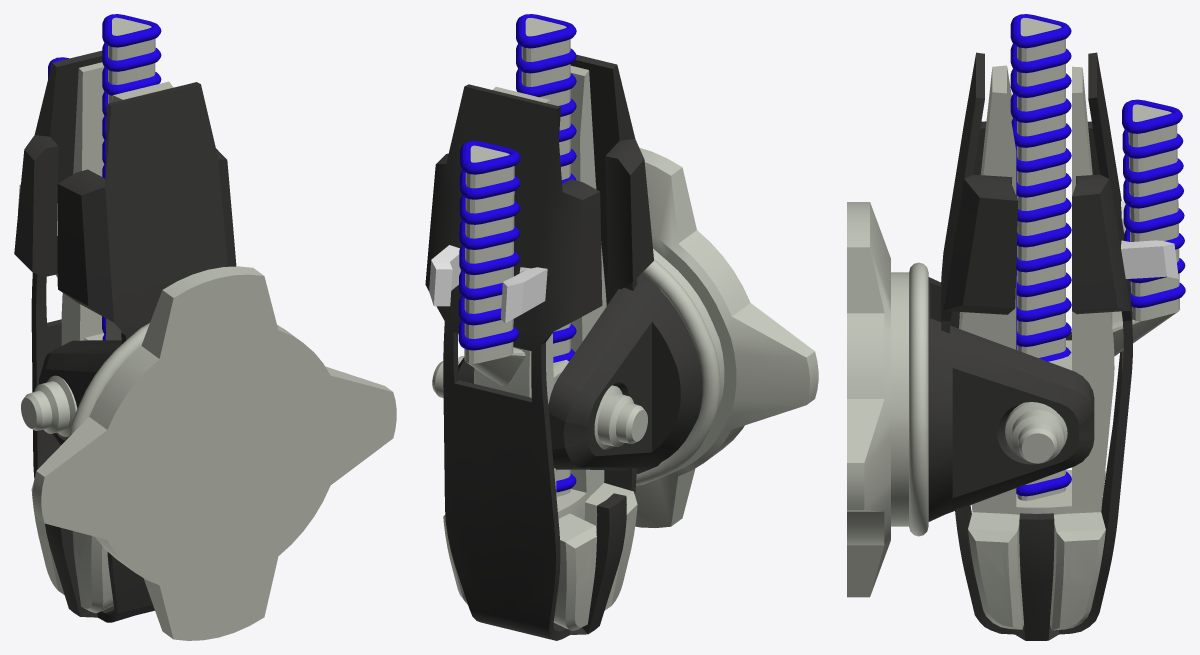
File: PlasmaCanon4.fbx
3 views of the same model, side by side, from view 1: azimuth 30°, elevation 25°; view 2: azimuth 150°, elevation 25°; view 3: azimuth 270°, elevation 25° (orthographic). The views are drawn at different scales.
Parts seen in each view (by area): view 1: Cylinder.002, Cylinder.009, Cylinder.007, Cylinder.006_Curve, Cylinder.004, Cylinder.005, Cylinder.006, Cylinder.004_Curve; view 2: Cylinder.009, Cylinder.002, Cylinder.004, Cylinder.007, Cylinder.010, Cylinder.006_Curve.001, Cylinder.004_Curve, Cylinder.006_Curve, Cylinder.011, Cylinder.006, Cylinder.005; view 3: Cylinder.009, Cylinder.007, Cylinder.004, Cylinder.002, Cylinder.006_Curve, Cylinder.006, Cylinder.010, Cylinder.006_Curve.001, Cylinder.004_Curve, Cylinder.005, Cylinder.011.
Part boxes in pixels (bbox=[...]): Cylinder.002: bbox=[33, 266, 396, 640]; Cylinder.009: bbox=[14, 50, 236, 622]; Cylinder.007: bbox=[31, 62, 173, 613]; Cylinder.006_Curve: bbox=[102, 14, 161, 340]; Cylinder.004: bbox=[38, 340, 121, 444]; Cylinder.005: bbox=[21, 375, 77, 436]; Cylinder.006: bbox=[108, 17, 155, 103]; Cylinder.004_Curve: bbox=[68, 323, 149, 437]; Cylinder.009: bbox=[425, 54, 653, 640]; Cylinder.002: bbox=[635, 148, 818, 527]; Cylinder.004: bbox=[458, 272, 702, 473]; Cylinder.007: bbox=[443, 65, 637, 630]; Cylinder.010: bbox=[464, 145, 525, 386]; Cylinder.006_Curve.001: bbox=[458, 141, 520, 350]; Cylinder.004_Curve: bbox=[636, 259, 720, 485]; Cylinder.006_Curve: bbox=[516, 14, 576, 492]; Cylinder.011: bbox=[429, 245, 547, 323]; Cylinder.006: bbox=[521, 18, 570, 496]; Cylinder.005: bbox=[432, 356, 647, 449]; Cylinder.009: bbox=[940, 52, 1132, 640]; Cylinder.007: bbox=[959, 65, 1114, 630]; Cylinder.004: bbox=[928, 277, 1094, 521]; Cylinder.002: bbox=[847, 202, 908, 597]; Cylinder.006_Curve: bbox=[1010, 14, 1071, 496]; Cylinder.006: bbox=[1017, 18, 1065, 500]; Cylinder.010: bbox=[1112, 104, 1179, 356]; Cylinder.006_Curve.001: bbox=[1122, 99, 1185, 307]; Cylinder.004_Curve: bbox=[909, 262, 928, 536]; Cylinder.005: bbox=[1005, 402, 1067, 463]; Cylinder.011: bbox=[1121, 201, 1178, 278].
Bounding box in the file's own units: 1669 × 2580 × 1344.
